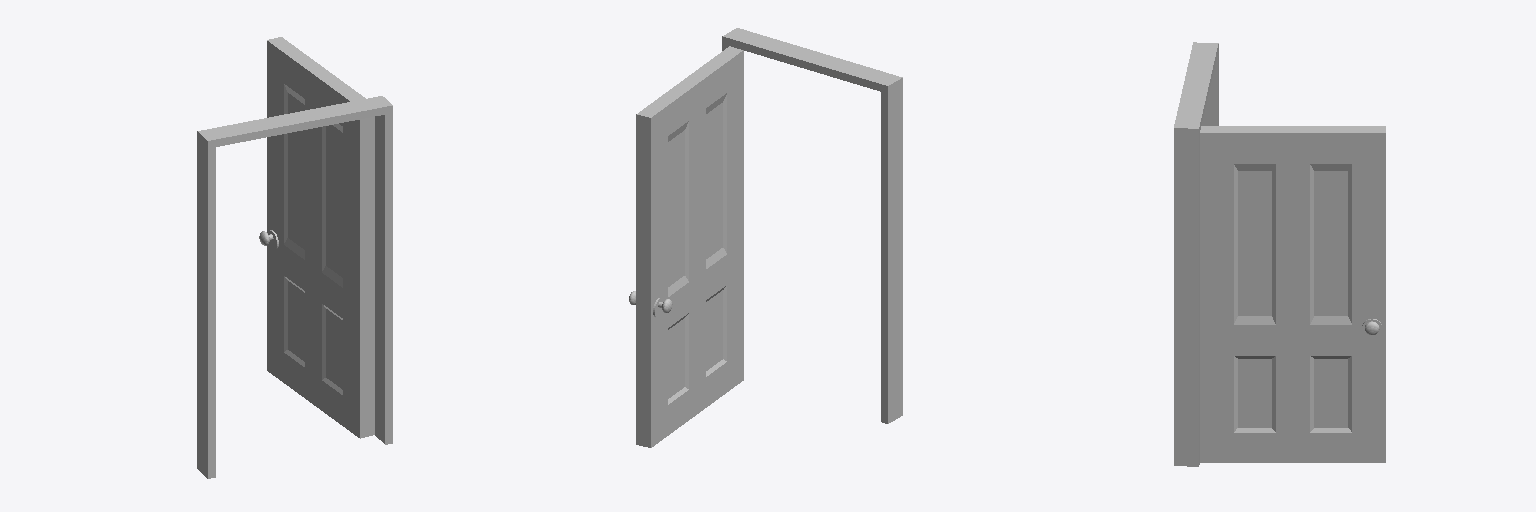
File: PuertaPequeñaAbierta.obj
3 views of the same model, side by side, from view 1: azimuth 30°, elevation 25°; view 2: azimuth 150°, elevation 25°; view 3: azimuth 270°, elevation 25° (orthographic).
Parts seen in each view (by area): view 1: Cube.001_Cube.002, Cube.002_Cube.003; view 2: Cube.001_Cube.002, Cube.002_Cube.003; view 3: Cube.001_Cube.002, Cube.002_Cube.003.
Part boxes in pixels (bbox=[...]): Cube.001_Cube.002: bbox=[267, 37, 374, 438]; Cube.002_Cube.003: bbox=[197, 96, 392, 478]; Cube.001_Cube.002: bbox=[636, 46, 743, 447]; Cube.002_Cube.003: bbox=[722, 28, 902, 423]; Cube.001_Cube.002: bbox=[1200, 126, 1385, 462]; Cube.002_Cube.003: bbox=[1174, 42, 1218, 466].
Size of the model in its own units: 1.25 by 2.2 by 1.25.